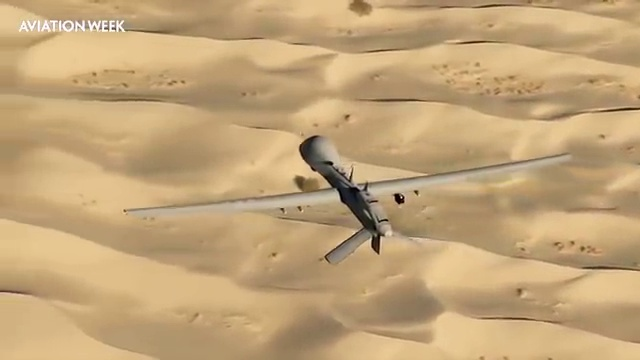military drone: (123, 135, 571, 265)
